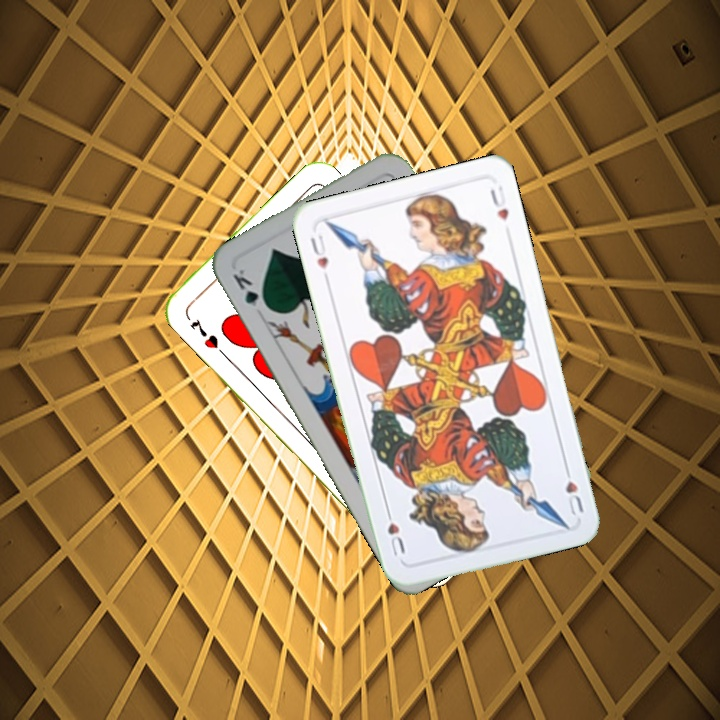GK: (229, 264, 272, 314)
H7: (186, 314, 221, 351)
HU: (560, 461, 586, 518), (306, 229, 331, 272)
